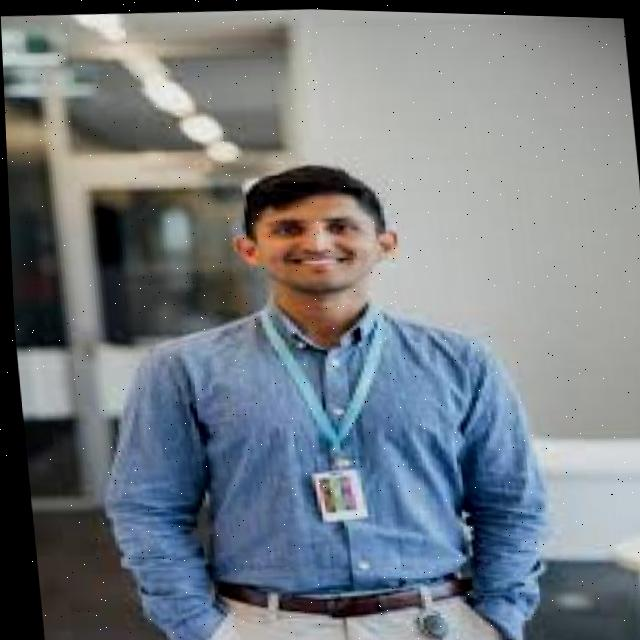id_card: (252, 301, 395, 534)
